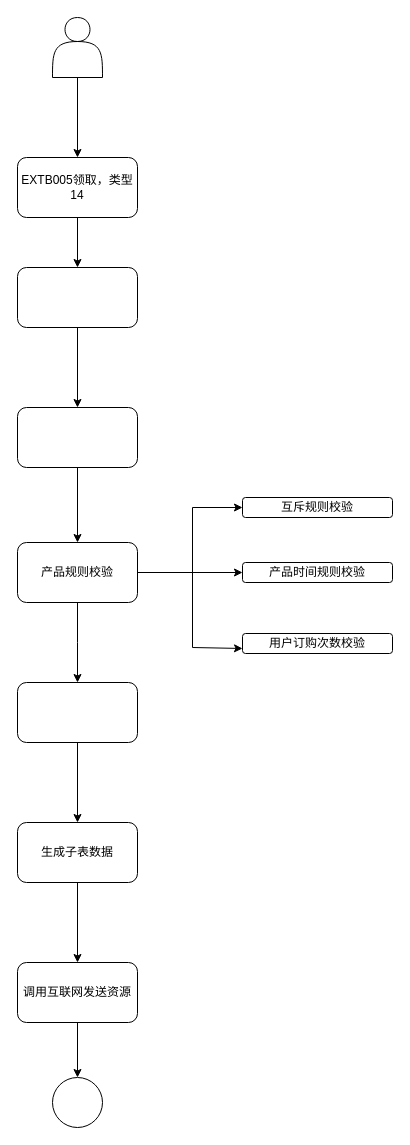
This 410x1145 diagram has some shape labels left out. Each missing label, with the box of its shape:
判断该产品是否在渠道上线的效验: (16, 406, 138, 468)
通过corgoodsId获取是否是省个性化产品: (16, 266, 138, 328)
通过产品信息生成主表数据: (16, 682, 138, 742)
